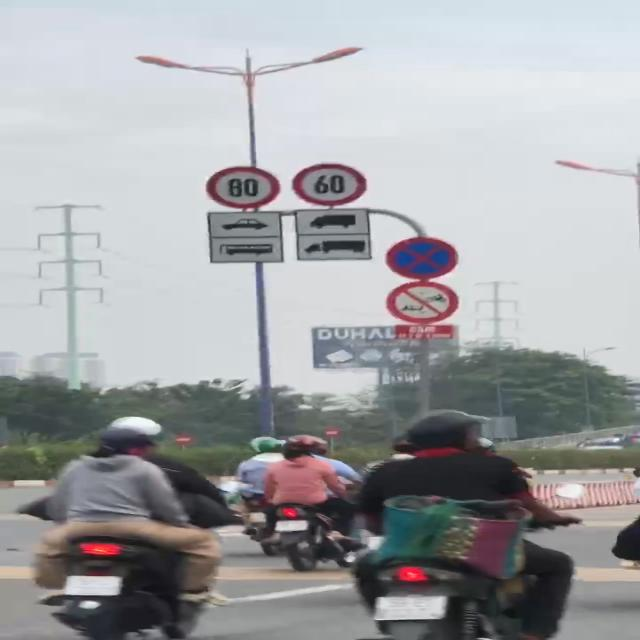Bien bao cam dung xe va do xe: (384, 235, 458, 280)
Bien bao toc do toi da cho phep: (288, 159, 368, 209), (203, 164, 283, 209)
